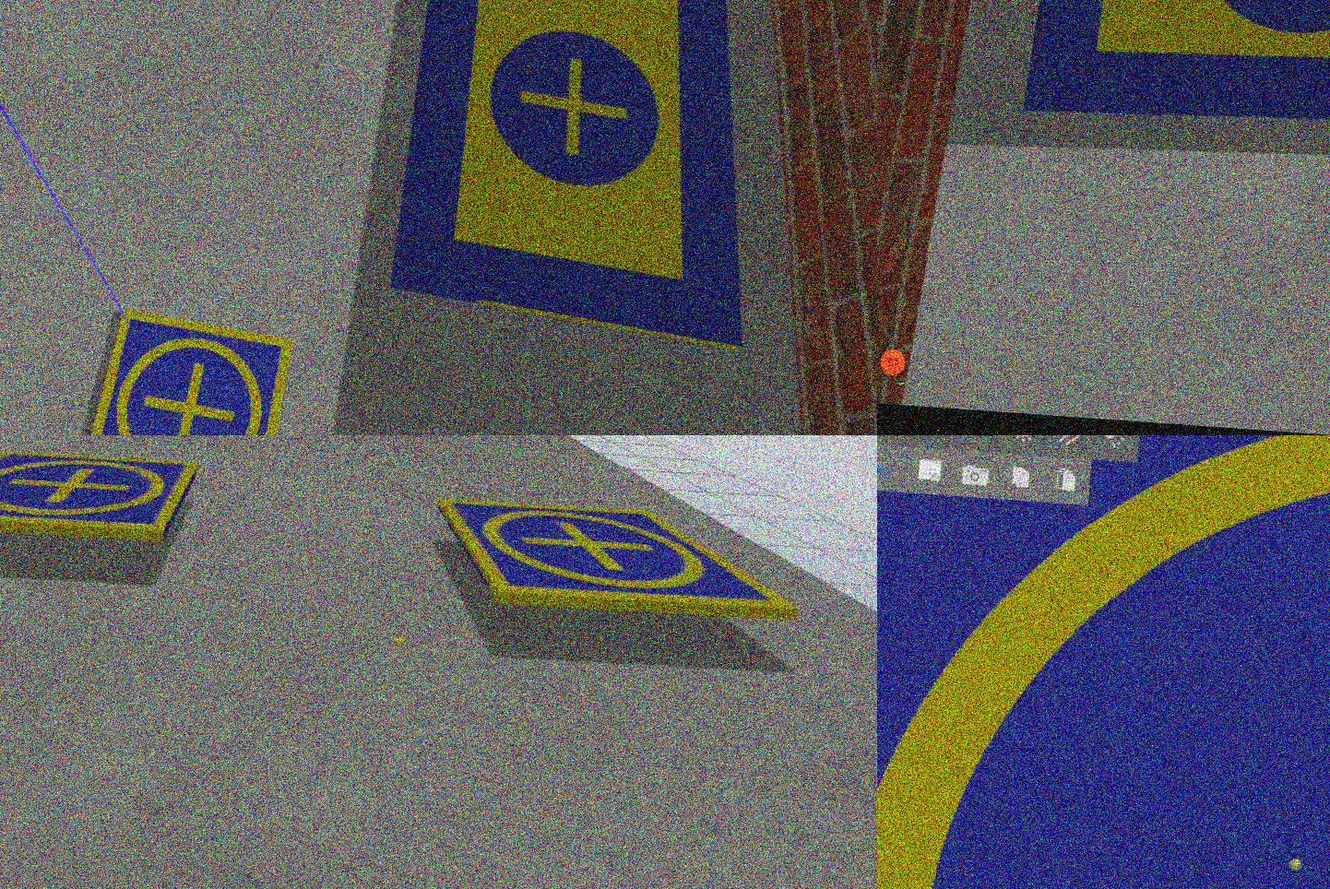large_base: (383, 1, 778, 352), (1021, 1, 1330, 148)
small_base: (877, 435, 1330, 889), (430, 495, 806, 630), (76, 304, 294, 435), (1, 441, 203, 546)
